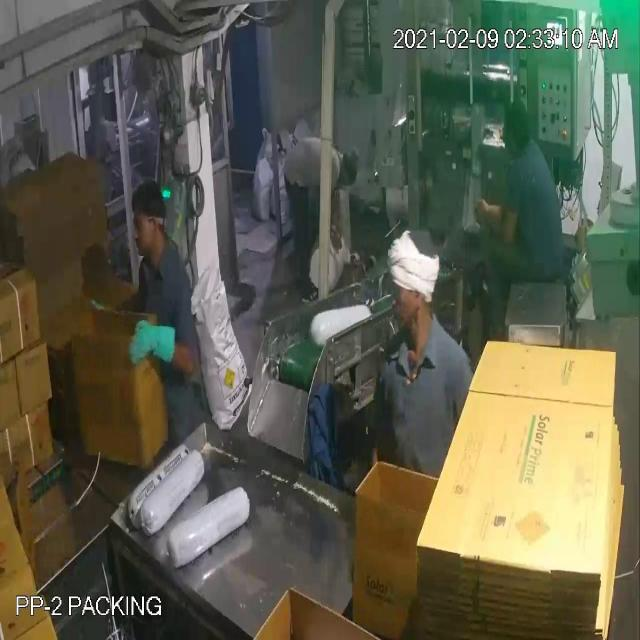Gloves: (38, 54, 501, 344)
